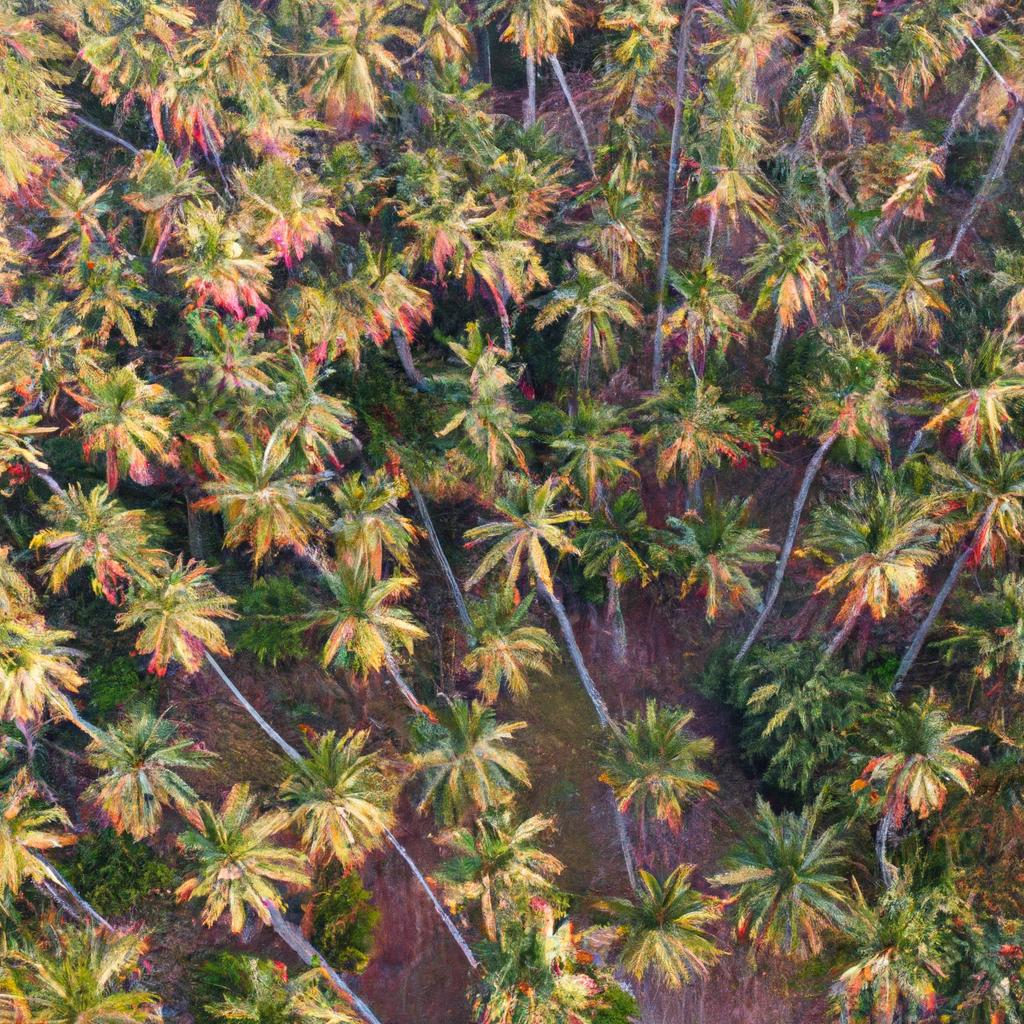coconut_tree: (712, 786, 875, 962), (812, 464, 962, 623), (161, 785, 305, 939), (850, 691, 1001, 834), (281, 558, 435, 683), (270, 732, 412, 864), (78, 713, 215, 847), (594, 683, 724, 823), (404, 697, 535, 828), (53, 362, 191, 485), (610, 858, 745, 983), (197, 428, 321, 558), (456, 475, 591, 593), (40, 477, 176, 593), (648, 383, 781, 493), (434, 596, 577, 696), (110, 566, 239, 675)
